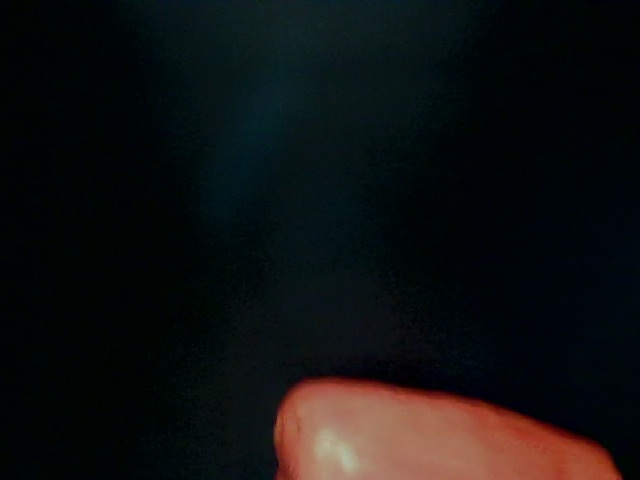QTLJ: (325, 220, 544, 480)
